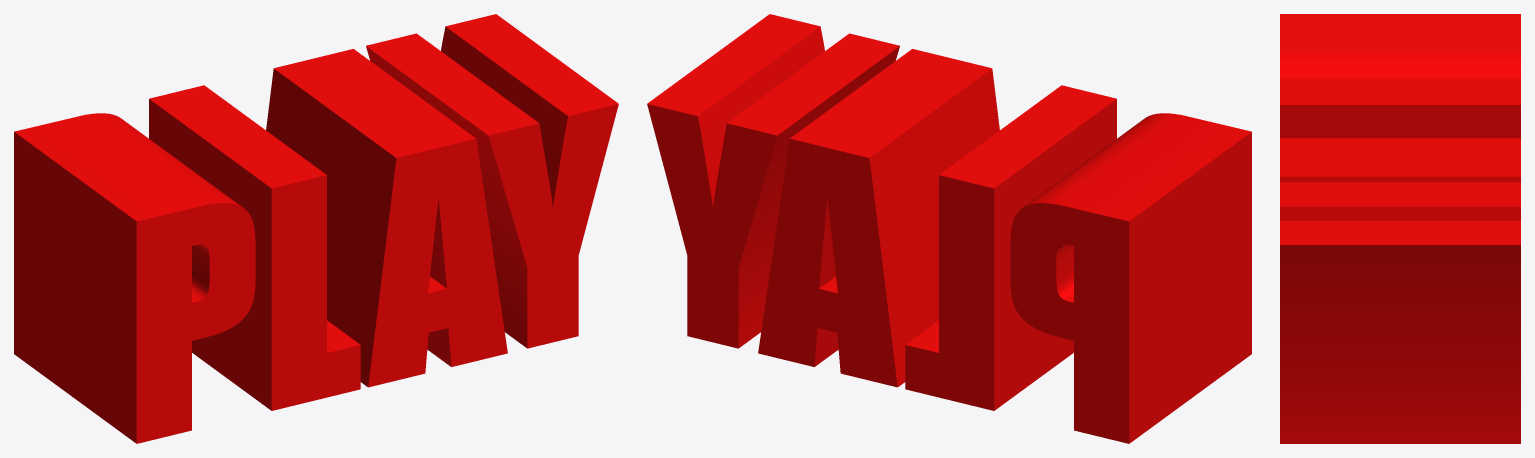
File: PLAY.dae
3 renders of one model, left to right at view 1: azimuth 30°, elevation 25°; view 2: azimuth 150°, elevation 25°; view 3: azimuth 270°, elevation 25°, orthographic.
Visible parts, largest first — view 1: PLAY; view 2: PLAY; view 3: PLAY.
Part boxes in pixels (x1=…): PLAY: x1=14, y1=14, x2=618, y2=443; PLAY: x1=647, y1=14, x2=1251, y2=443; PLAY: x1=1280, y1=14, x2=1520, y2=443.
Bounding box in the file's own units: 17.93 × 7.9 × 7.9.
